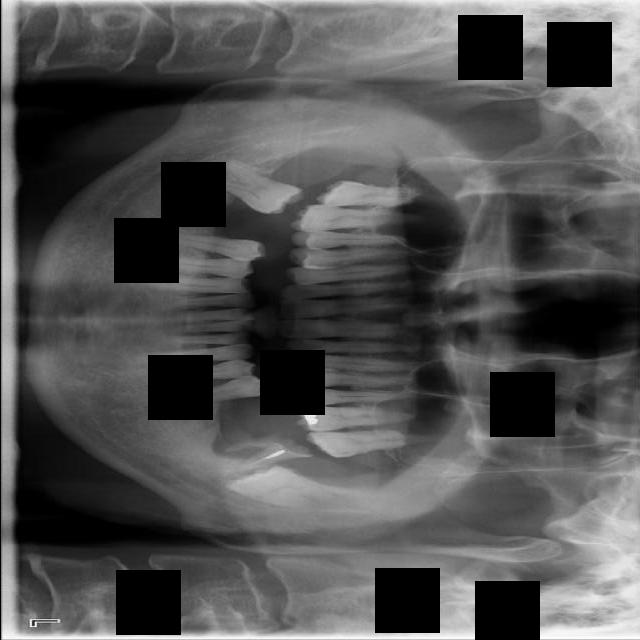52: (287, 402, 348, 436), (273, 430, 313, 462)
73: (220, 425, 313, 476), (44, 603, 54, 610)
BioHorizons Implant: (305, 425, 435, 460)
Biomet 3i Implant: (220, 449, 337, 525)
Caries: (315, 177, 444, 208)
Implant: (194, 151, 306, 226)
